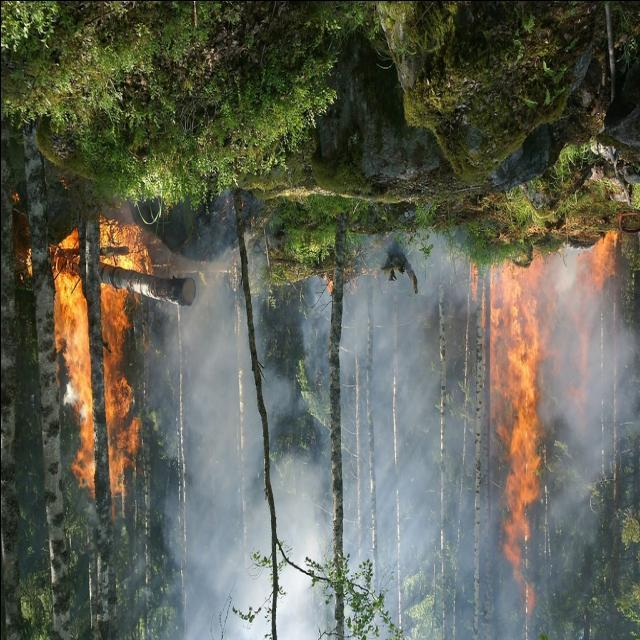Fire: (474, 232, 617, 564), (36, 218, 154, 510)
